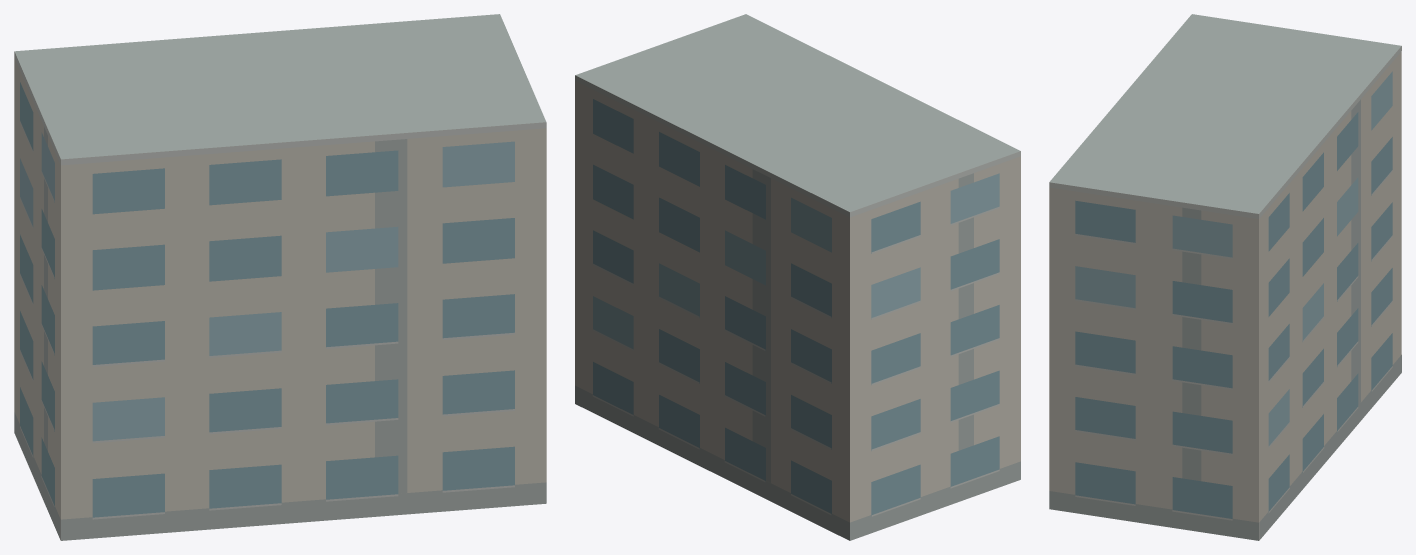
The model's file is residential-79a44603-1a92-4e96-af7c-c21387f09c21.glb.
3 renders of one model, left to right at view 1: azimuth 30°, elevation 25°; view 2: azimuth 150°, elevation 25°; view 3: azimuth 270°, elevation 25°, orthographic. The views are drawn at different scales.
Visible parts, largest first — view 1: residential-79a44603-1a92-4e96-af7c-c21387f09c21.tmp; view 2: residential-79a44603-1a92-4e96-af7c-c21387f09c21.tmp; view 3: residential-79a44603-1a92-4e96-af7c-c21387f09c21.tmp.
Part boxes in pixels (x1,y1,x2,y2): residential-79a44603-1a92-4e96-af7c-c21387f09c21.tmp: (14,14,546,540); residential-79a44603-1a92-4e96-af7c-c21387f09c21.tmp: (575,14,1020,540); residential-79a44603-1a92-4e96-af7c-c21387f09c21.tmp: (1049,14,1401,540).
Size of the model in its own units: 20.02 by 15.25 by 14.92.
